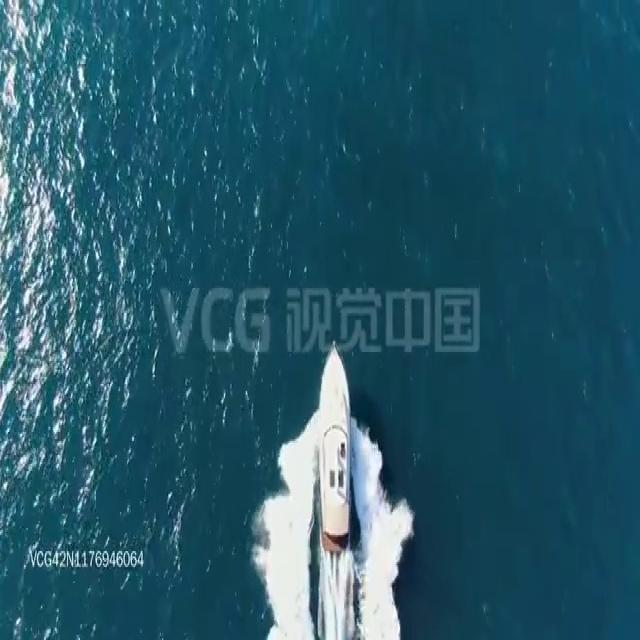houseboat: (317, 337, 357, 556)
